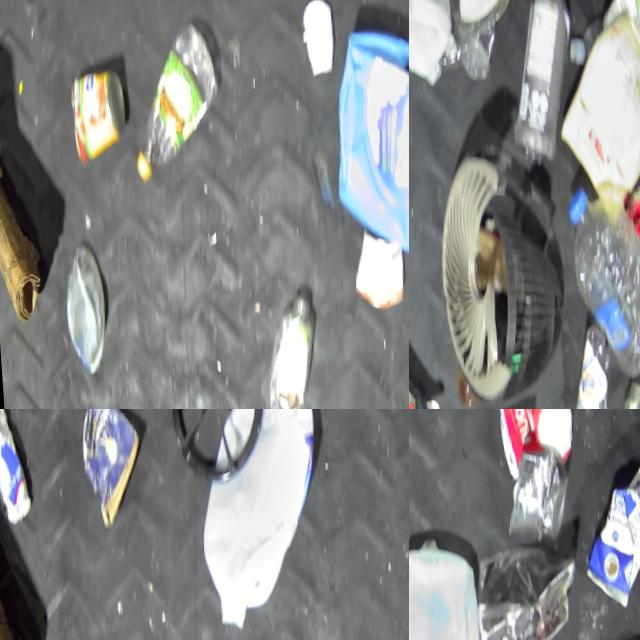can: (123, 18, 226, 190), (497, 453, 568, 551), (64, 57, 128, 165), (621, 189, 640, 254)
milk_jug: (183, 409, 328, 640), (409, 544, 484, 640), (409, 0, 457, 100)
non_white_jug: (319, 16, 409, 268)
plastic_bottle: (553, 191, 640, 395), (561, 330, 610, 409)
